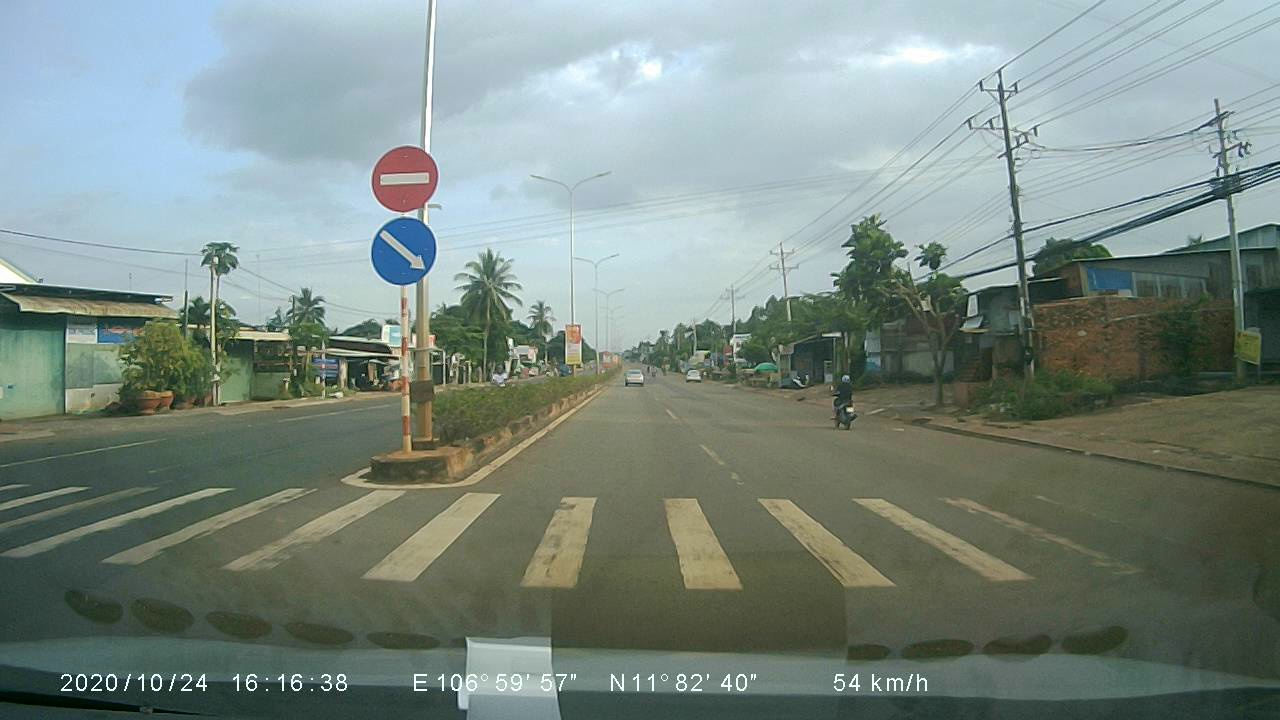Huong di phai re phai: (368, 138, 441, 214), (369, 217, 437, 288)
